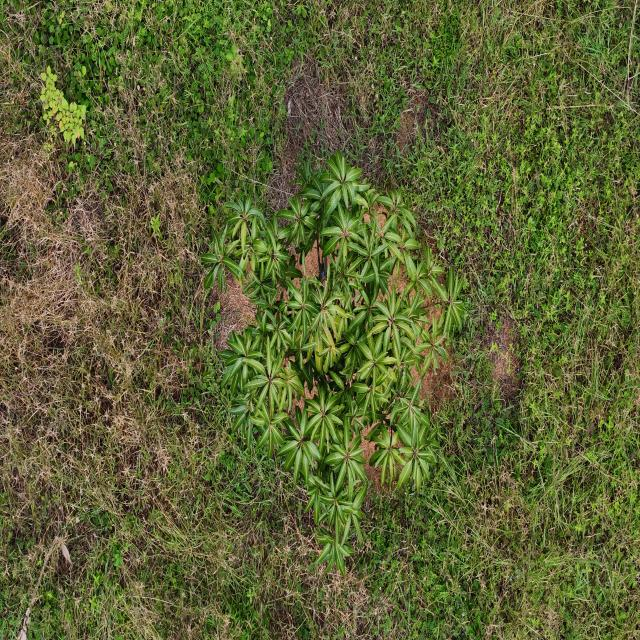mangoTree: (198, 145, 472, 582)
